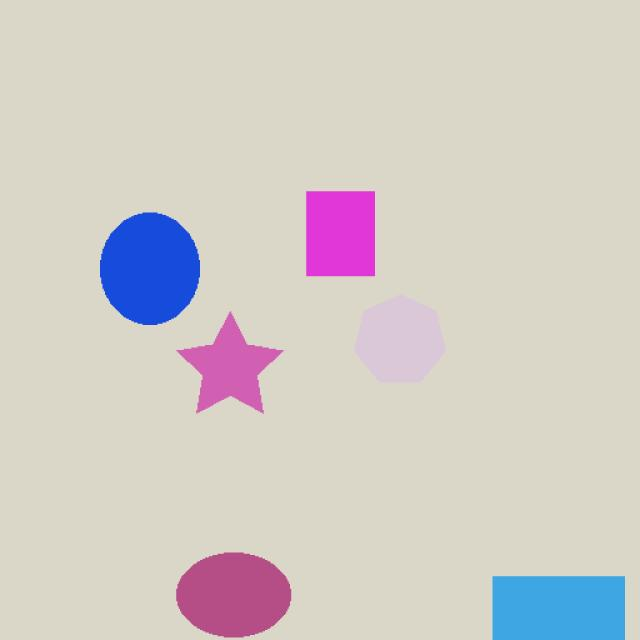Circle: (82, 200, 233, 328)
Heptagon: (357, 292, 457, 392)
Oval: (154, 541, 314, 640)
Rectangle: (486, 559, 640, 640)
Star: (147, 286, 300, 413)
square: (286, 179, 393, 297)
